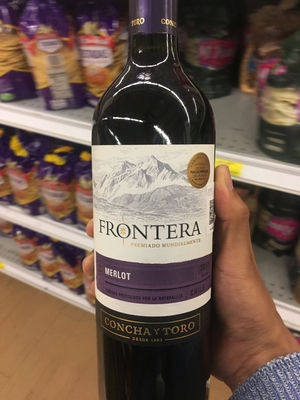frontera merlot: (90, 17, 226, 400)
